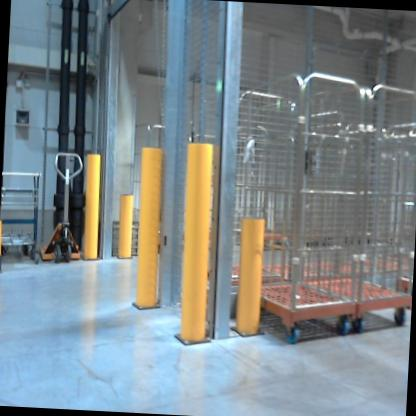pallet_truck: (37, 150, 87, 265)
